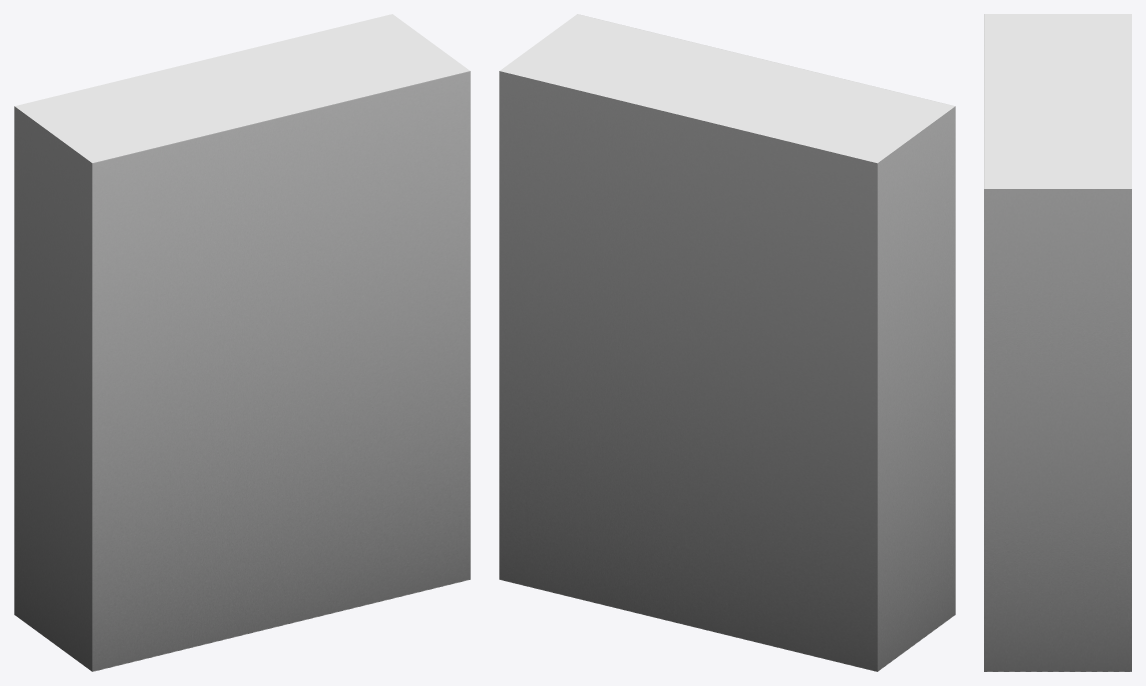
Rendered from 03-fibra.fbx.
3 renders of one model, left to right at view 1: azimuth 30°, elevation 25°; view 2: azimuth 150°, elevation 25°; view 3: azimuth 270°, elevation 25°, orthographic. The views are drawn at different scales.
Parts seen in each view (by area): view 1: 01_obj_fibra; view 2: 01_obj_fibra; view 3: 01_obj_fibra.
Boxes of the visible parts, x1,y1,x2,y2 form: 01_obj_fibra: (14,14,470,671); 01_obj_fibra: (499,14,955,671); 01_obj_fibra: (984,14,1131,671).
Size of what is drawn, in the model's own units: 14 by 18 by 5.
1 material, 1 textured.
